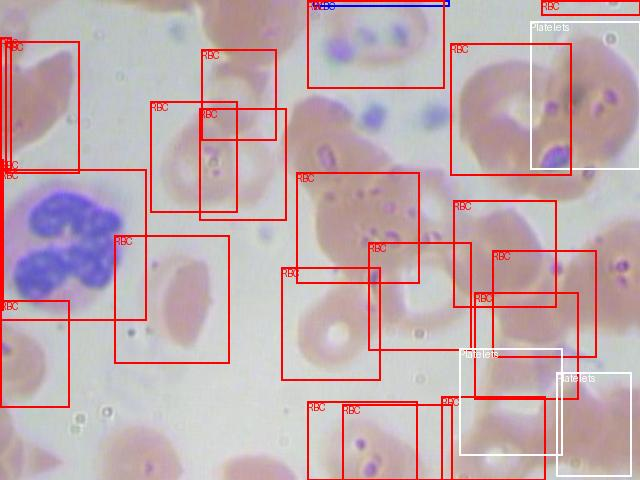Platelets: (530, 21, 640, 169), (459, 348, 562, 455), (556, 372, 631, 476)
RBC: (0, 169, 146, 320), (450, 43, 571, 175), (114, 235, 229, 363), (296, 172, 419, 283), (307, 0, 444, 88), (281, 267, 380, 380), (492, 250, 596, 357), (474, 292, 578, 399), (368, 242, 471, 350), (453, 200, 556, 307), (5, 41, 79, 173), (199, 108, 286, 220), (150, 101, 237, 212), (441, 396, 545, 480), (307, 401, 417, 480), (342, 404, 452, 480), (0, 300, 69, 407), (201, 49, 276, 140), (541, 0, 640, 15), (0, 37, 11, 169), (0, 159, 3, 310)
WBC: (313, 0, 449, 6)
